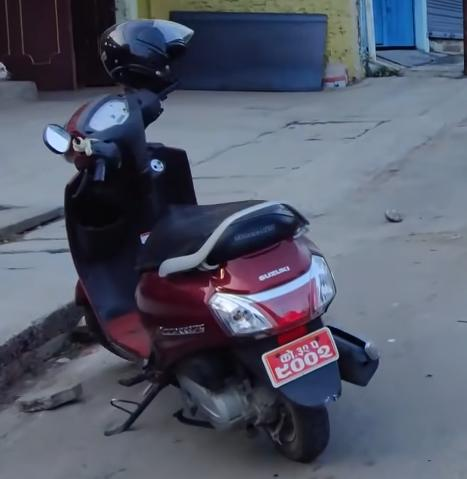scooter: (41, 54, 383, 465)
